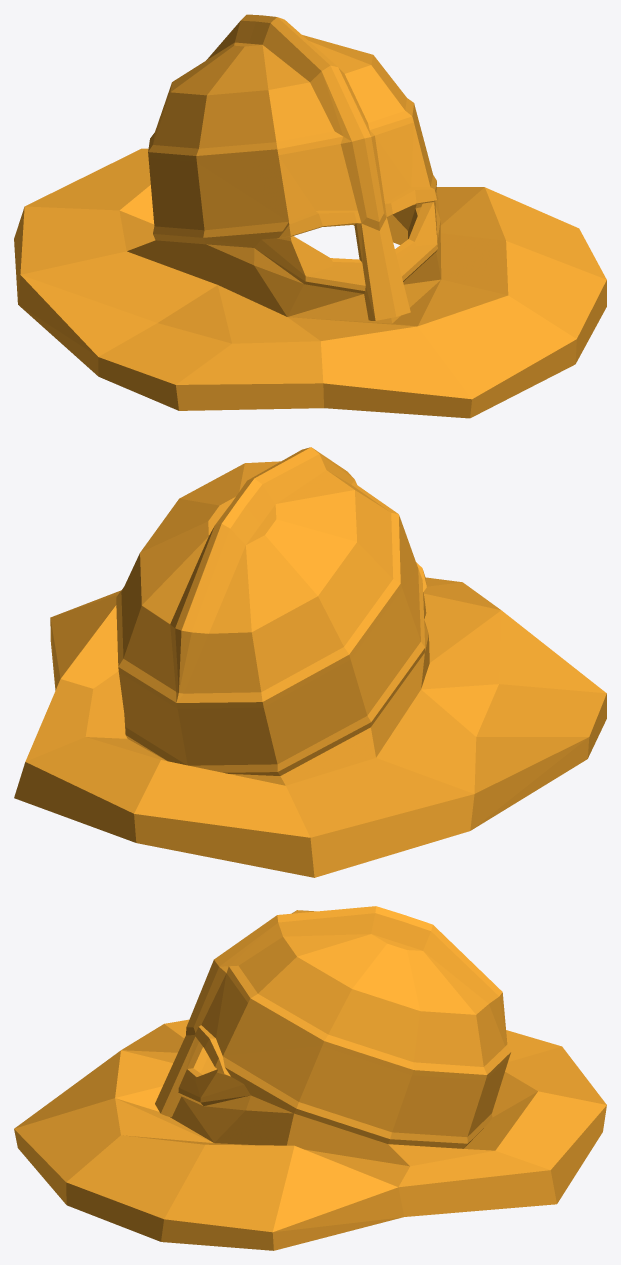
File: SM_Helmet_Viking_Aventail_Placed.fbx
The picture shows the model from 3 angles, top to bottom: view 1: azimuth 30°, elevation 25°; view 2: azimuth 150°, elevation 25°; view 3: azimuth 270°, elevation 25°; orthographic projection. The views are drawn at different scales.
Parts seen in each view (by area): view 1: helmet-viking-aventail-placed; view 2: helmet-viking-aventail-placed; view 3: helmet-viking-aventail-placed.
Part boxes in pixels (x1,y1,x2,y2): helmet-viking-aventail-placed: (14,14,606,418); helmet-viking-aventail-placed: (14,447,606,877); helmet-viking-aventail-placed: (14,906,606,1250).
Bounding box in the file's own units: 0.4249 × 0.2165 × 0.4769.
